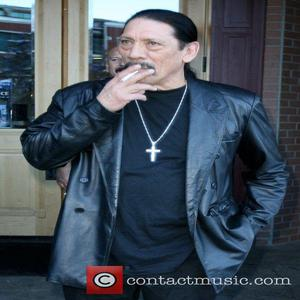cigarette: (122, 67, 142, 87)
